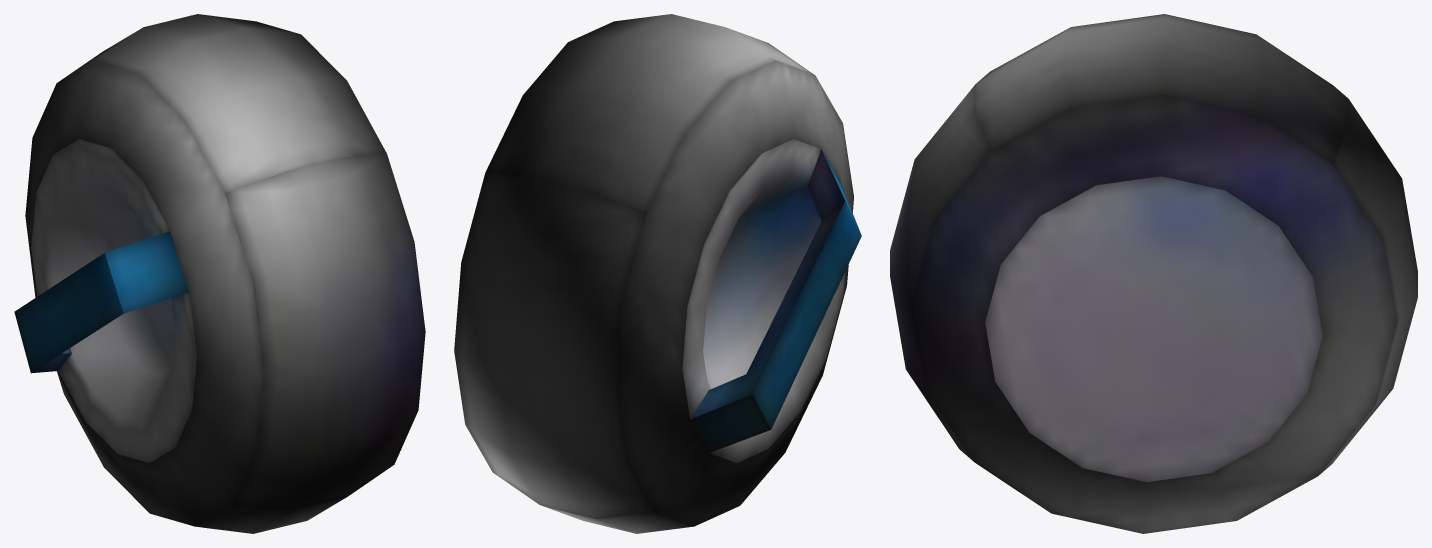
Rendered from rearright1.obj.
3 renders of one model, left to right at view 1: azimuth 30°, elevation 25°; view 2: azimuth 150°, elevation 25°; view 3: azimuth 270°, elevation 25°, orthographic.
Parts seen in each view (by area): view 1: Object012; view 2: Object012; view 3: Object012.
Part boxes in pixels (left/top/right/bottom): Object012: left=14, top=14, right=425, bottom=533; Object012: left=454, top=14, right=861, bottom=533; Object012: left=890, top=14, right=1417, bottom=533.
Bounding box in the file's own units: 5.4 × 9.07 × 9.07.
1 material, 1 textured.
